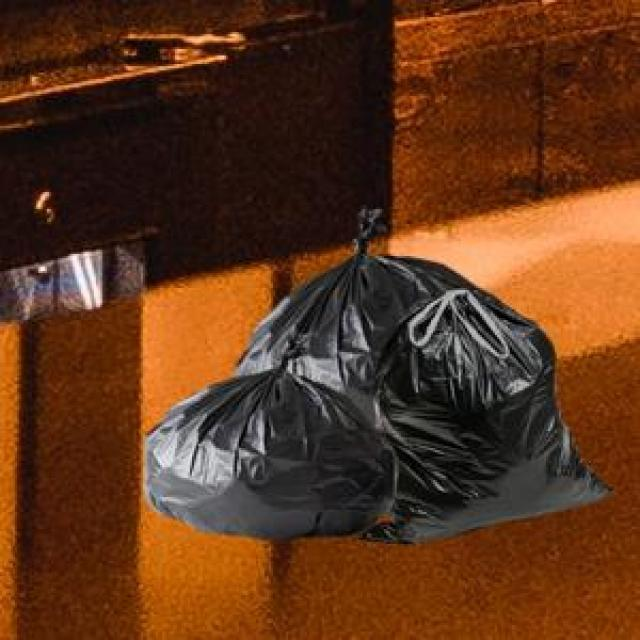waste: (186, 229, 624, 564)
